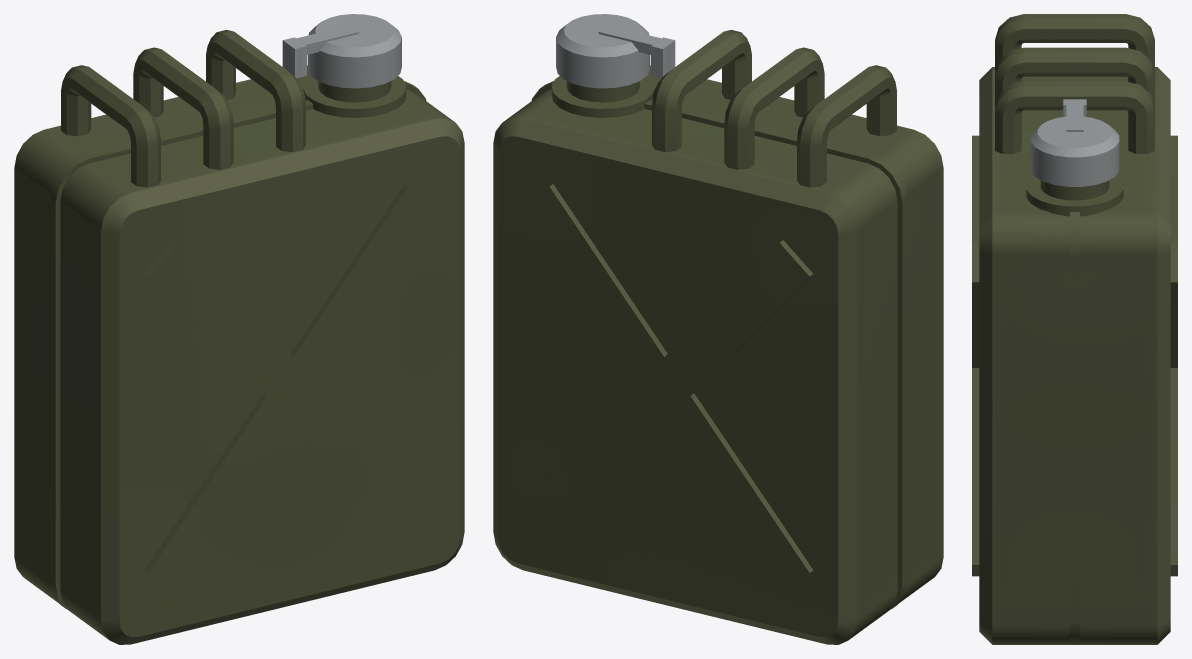
The model's file is body.obj.
3 views of the same model, side by side, from view 1: azimuth 30°, elevation 25°; view 2: azimuth 150°, elevation 25°; view 3: azimuth 270°, elevation 25° (orthographic). The views are drawn at different scales.
Parts seen in each view (by area): view 1: jerry_can__body__body, jerry_can__body__x_ribs, jerry_can__body__handles, jerry_can__body__bead, jerry_can__body__spout_cap, jerry_can__body__spout_boss, jerry_can__body__cam_lever, jerry_can__body__spout_neck; view 2: jerry_can__body__body, jerry_can__body__x_ribs, jerry_can__body__handles, jerry_can__body__bead, jerry_can__body__spout_cap, jerry_can__body__spout_boss, jerry_can__body__cam_lever, jerry_can__body__spout_neck; view 3: jerry_can__body__body, jerry_can__body__handles, jerry_can__body__x_ribs, jerry_can__body__spout_cap, jerry_can__body__bead, jerry_can__body__spout_boss, jerry_can__body__spout_neck, jerry_can__body__cam_lever.
Part boxes in pixels (box(x1,y1,x2,y2)): jerry_can__body__body: box(14, 65, 464, 644); jerry_can__body__x_ribs: box(144, 184, 438, 592); jerry_can__body__handles: box(61, 30, 305, 187); jerry_can__body__bead: box(50, 81, 426, 609); jerry_can__body__spout_cap: box(307, 14, 401, 88); jerry_can__body__spout_boss: box(303, 76, 406, 117); jerry_can__body__cam_lever: box(282, 25, 359, 78); jerry_can__body__spout_neck: box(318, 81, 391, 102); jerry_can__body__body: box(493, 65, 943, 644); jerry_can__body__x_ribs: box(519, 184, 813, 592); jerry_can__body__handles: box(652, 30, 896, 187); jerry_can__body__bead: box(531, 81, 907, 609); jerry_can__body__spout_cap: box(556, 14, 650, 88); jerry_can__body__spout_boss: box(551, 76, 654, 117); jerry_can__body__cam_lever: box(598, 25, 675, 78); jerry_can__body__spout_neck: box(566, 81, 639, 102); jerry_can__body__body: box(979, 67, 1170, 644); jerry_can__body__handles: box(995, 14, 1154, 153); jerry_can__body__x_ribs: box(972, 135, 1177, 576); jerry_can__body__spout_cap: box(1030, 116, 1119, 186); jerry_can__body__bead: box(1070, 76, 1079, 642); jerry_can__body__spout_boss: box(1026, 175, 1123, 216); jerry_can__body__spout_neck: box(1040, 180, 1109, 200); jerry_can__body__cam_lever: box(1063, 99, 1086, 131).
Bounding box in the file's own units: 0.4952 × 0.6593 × 0.2485.
